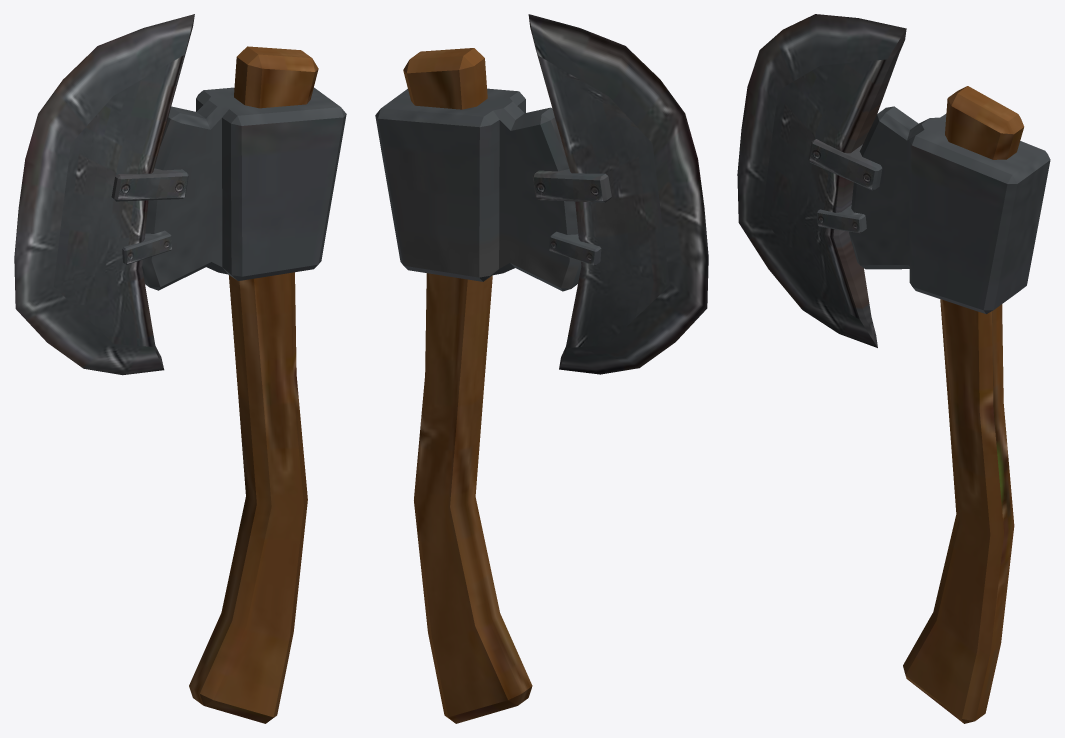
File: AbandonedWeapon_Axe.fbx
3 renders of one model, left to right at view 1: azimuth 30°, elevation 25°; view 2: azimuth 150°, elevation 25°; view 3: azimuth 330°, elevation 25°, orthographic. The views are drawn at different scales.
Visible parts, largest first — view 1: AbandonedWeapon_Axe; view 2: AbandonedWeapon_Axe; view 3: AbandonedWeapon_Axe.
Boxes of the visible parts, left/top/right/bottom form: AbandonedWeapon_Axe: left=14, top=14, right=346, bottom=723; AbandonedWeapon_Axe: left=375, top=14, right=708, bottom=723; AbandonedWeapon_Axe: left=737, top=14, right=1050, bottom=723.
Size of the model in its own units: 25.29 by 55.34 by 6.
